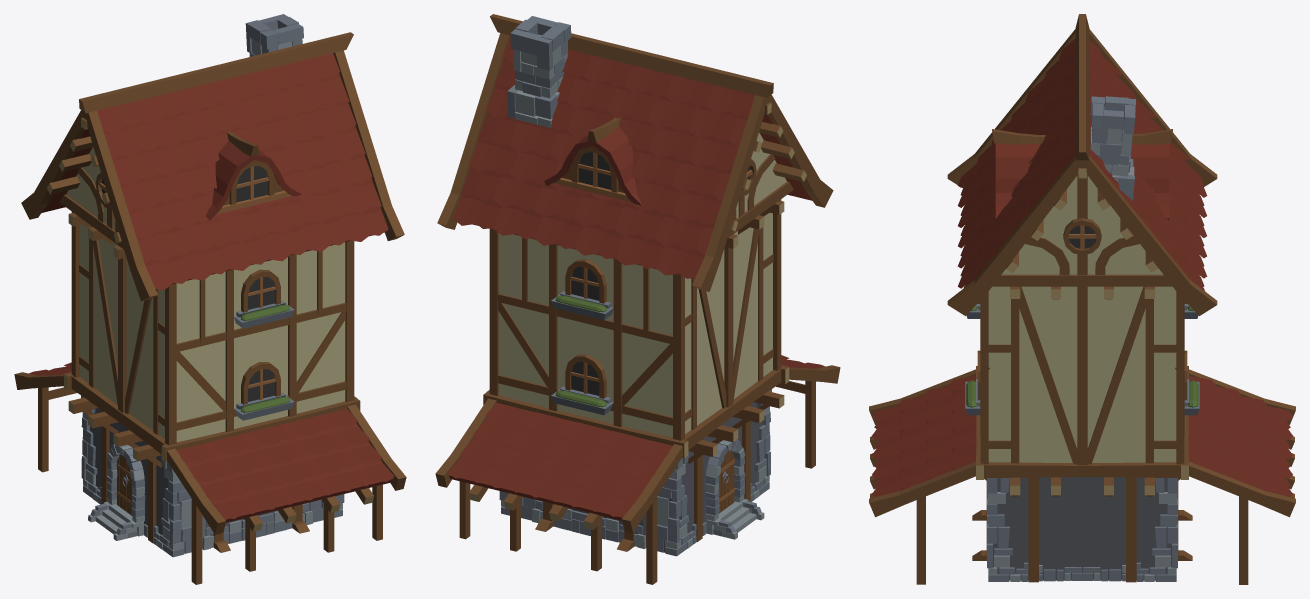
The model's file is mill.003_lev2.glb.
3 renders of one model, left to right at view 1: azimuth 30°, elevation 25°; view 2: azimuth 150°, elevation 25°; view 3: azimuth 270°, elevation 25°, orthographic. The views are drawn at different scales.
Parts seen in each view (by area): view 1: mill.003_lev2; view 2: mill.003_lev2; view 3: mill.003_lev2.
Part boxes in pixels (box(x1,y1,x2,y2)): mill.003_lev2: box(14, 14, 406, 584); mill.003_lev2: box(435, 14, 840, 584); mill.003_lev2: box(869, 14, 1295, 584).
Bounding box in the file's own units: 6.55 × 10.36 × 8.49.
